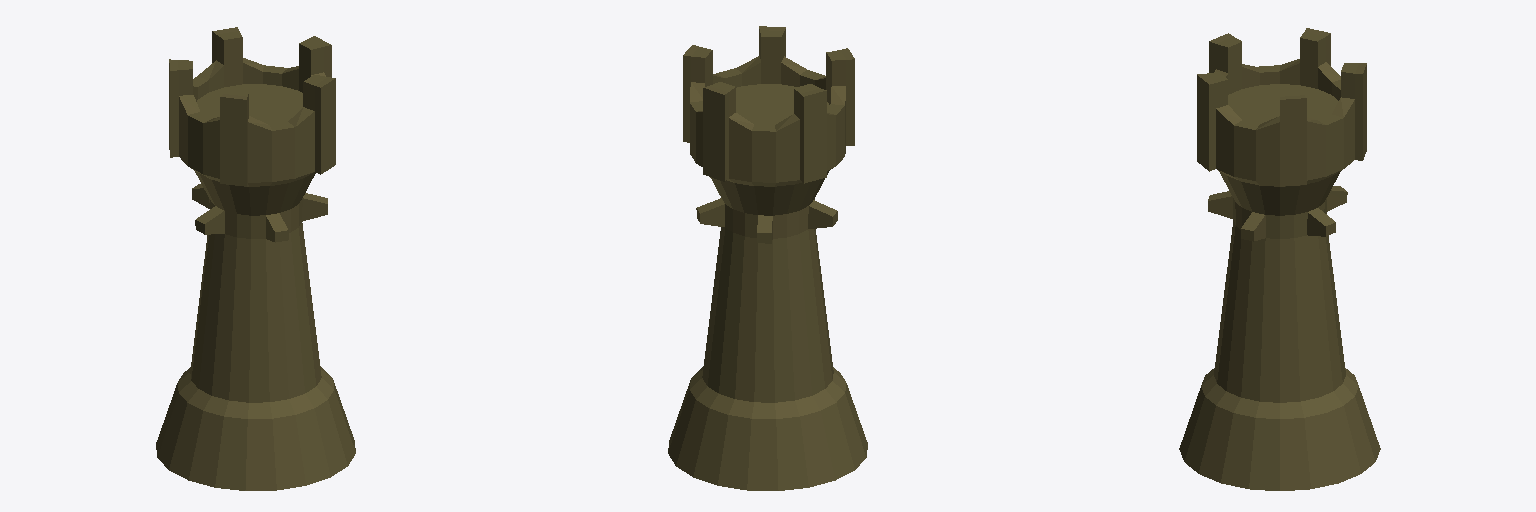
Rendered from Rook_Body.obj.
3 views of the same model, side by side, from view 1: azimuth 30°, elevation 25°; view 2: azimuth 150°, elevation 25°; view 3: azimuth 270°, elevation 25° (orthographic).
Visible parts, largest first — view 1: R_Decor Scene; view 2: R_Decor Scene, textureEditorIsolateSelectSet R_Decor Scene; view 3: R_Decor Scene.
Part boxes in pixels (x1,y1,x2,y2): R_Decor Scene: (156,27,355,490); R_Decor Scene: (668,26,867,490); textureEditorIsolateSelectSet R_Decor Scene: (683,55,704,82); R_Decor Scene: (1179,28,1380,490).
Bounding box in the file's own units: 0.6116 × 1.29 × 0.6116.